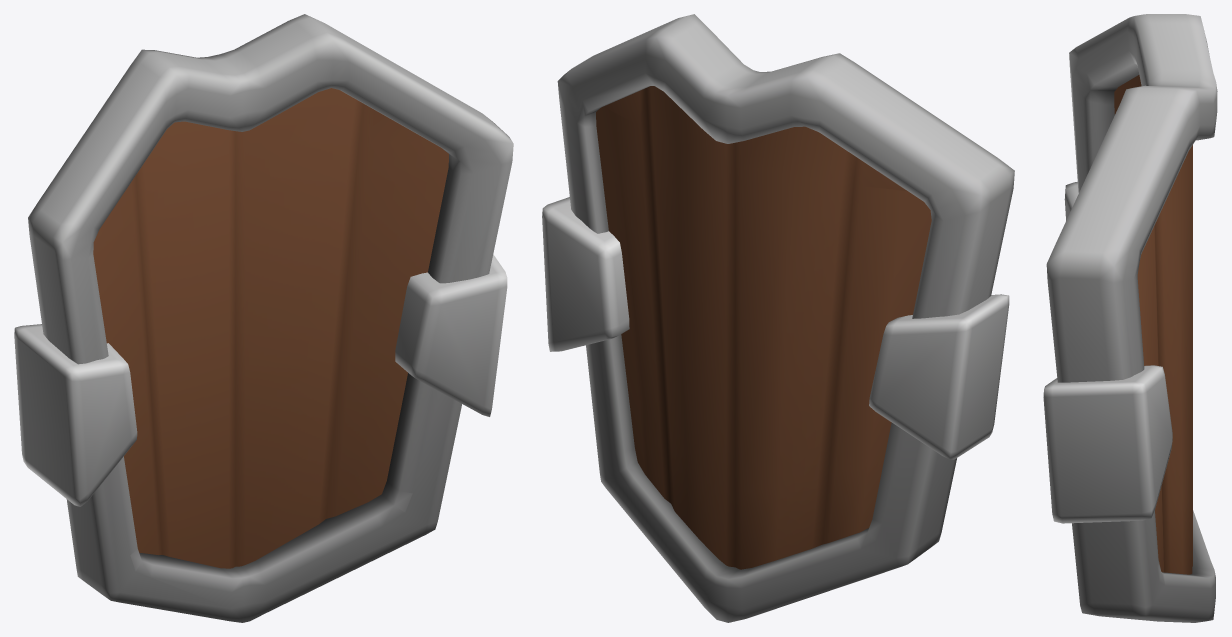
The model's file is Shield.fbx.
3 views of the same model, side by side, from view 1: azimuth 30°, elevation 25°; view 2: azimuth 150°, elevation 25°; view 3: azimuth 270°, elevation 25° (orthographic). The views are drawn at different scales.
Visible parts, largest first — view 1: Cube; view 2: Cube; view 3: Cube.
Part boxes in pixels (x1=…): Cube: x1=14, y1=14, x2=513, y2=622; Cube: x1=542, y1=14, x2=1014, y2=622; Cube: x1=1043, y1=14, x2=1217, y2=622.
Size of the model in its own units: 117 by 143 by 39.91.
